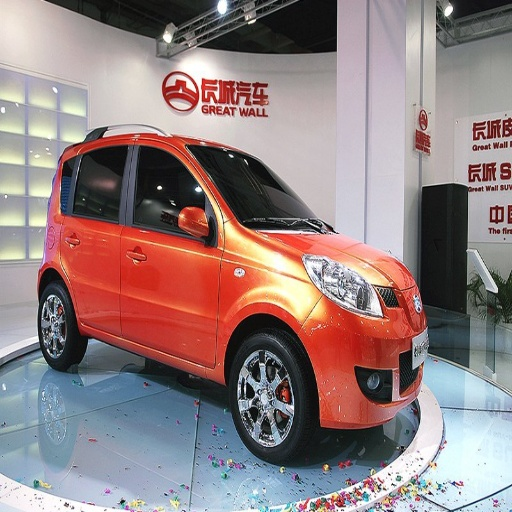front_bumper: (300, 289, 426, 449)
front_right_door: (121, 137, 218, 365)
front_right_light: (303, 255, 398, 317)
